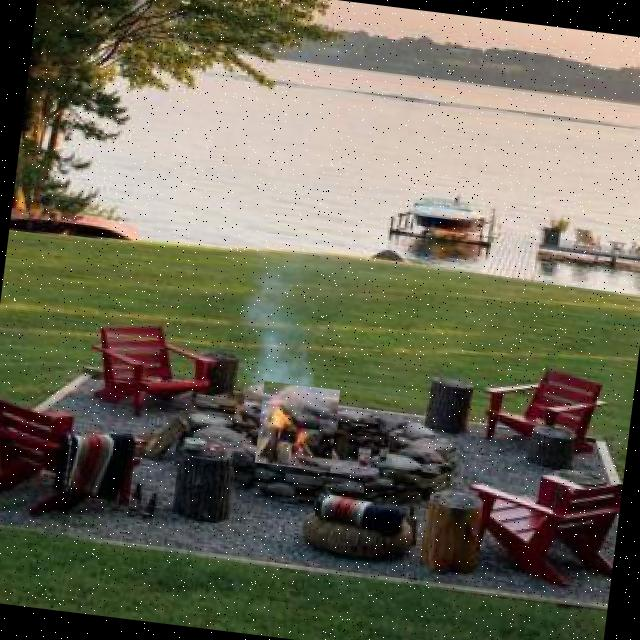fire: (254, 381, 340, 472)
